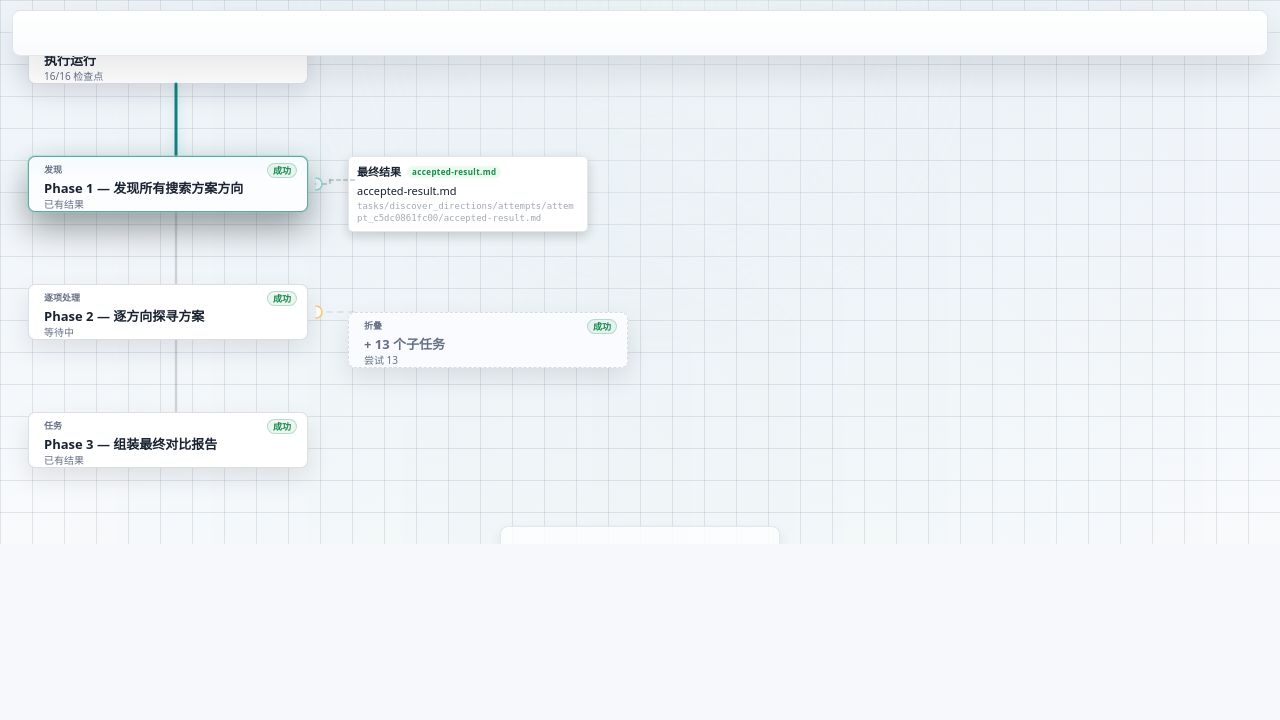
it: Artifact preview nodes › previews the snapshot 2 Phase 1 result from attempt metadata
This screenshot has width=1280, height=720.
Step 1. Click the text "最终结果" → point(379, 172), box x1=357 y1=163 x2=401 y2=181
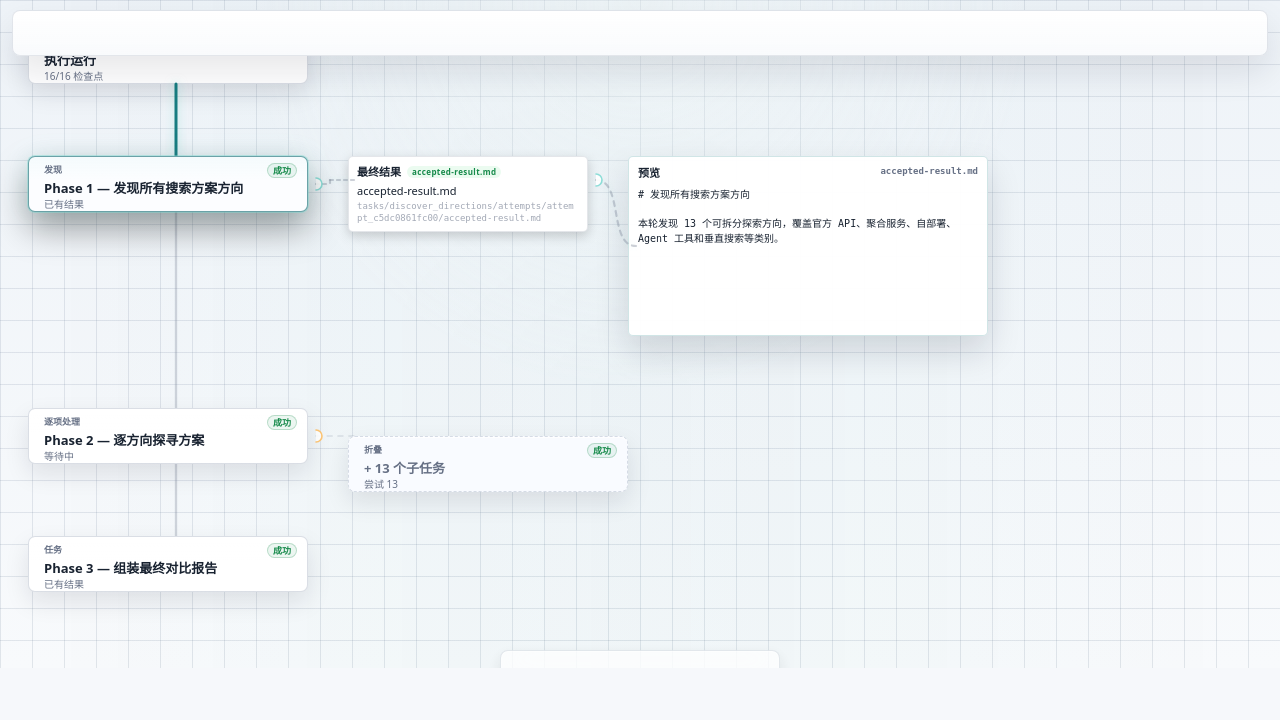
expect the element with test id "artifact-preview" shows "发现所有搜索方案方向": met, box x1=638 y1=189 x2=956 y2=244
